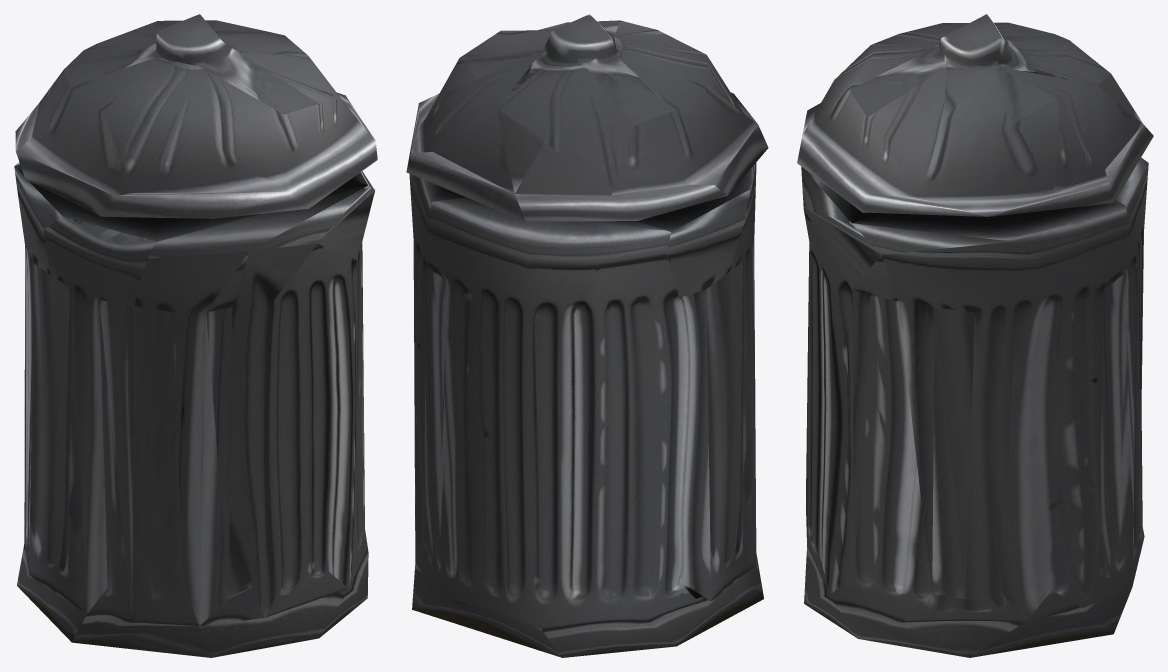
Rendered from trash-can.glb.
3 renders of one model, left to right at view 1: azimuth 30°, elevation 25°; view 2: azimuth 150°, elevation 25°; view 3: azimuth 270°, elevation 25°, orthographic.
Parts seen in each view (by area): view 1: SM_trash-can; view 2: SM_trash-can; view 3: SM_trash-can.
Part boxes in pixels (x1,y1,x2,y2): SM_trash-can: (14, 14, 377, 657); SM_trash-can: (406, 14, 768, 657); SM_trash-can: (797, 14, 1153, 657).
Size of the model in its own units: 0.5906 by 1 by 0.5823.
Materials: 1 (1 with a texture image).
